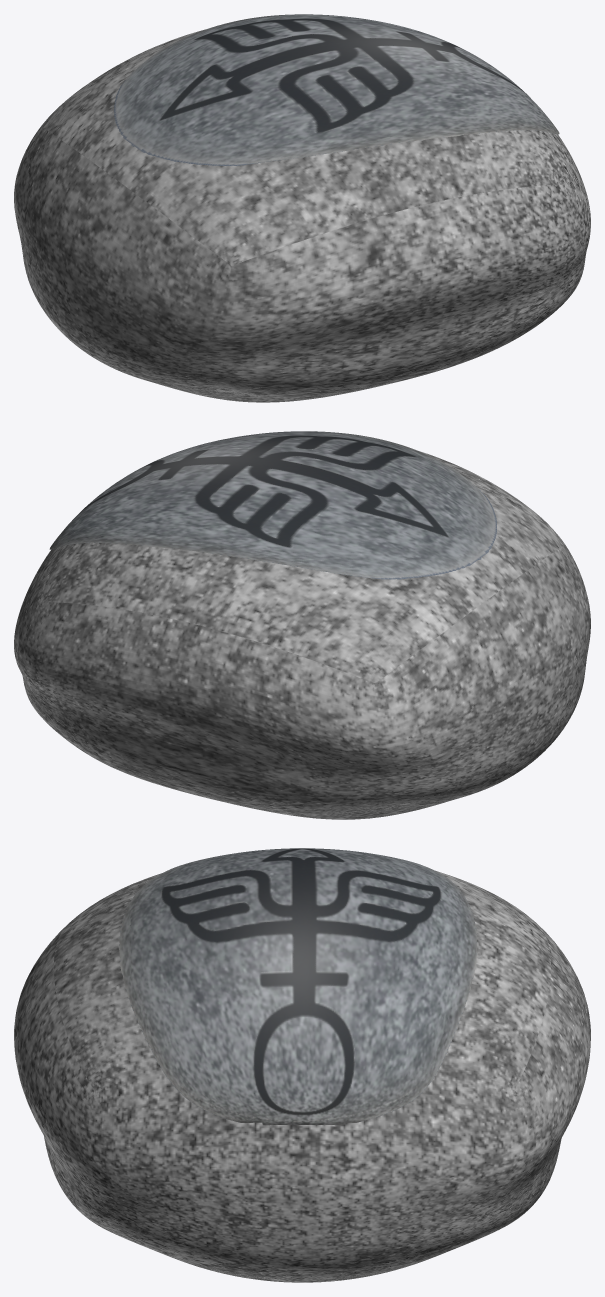
The model's file is AbsorbedTablet.fbx.
3 renders of one model, top to bottom at view 1: azimuth 30°, elevation 25°; view 2: azimuth 150°, elevation 25°; view 3: azimuth 270°, elevation 25°, orthographic. The views are drawn at different scales.
Visible parts, largest first — view 1: Cube, war; view 2: Cube, war; view 3: Cube, war.
Part boxes in pixels (x1,y1,x2,y2): Cube: (14, 29, 590, 402); war: (114, 14, 559, 165); Cube: (14, 451, 590, 819); war: (49, 431, 496, 579); Cube: (14, 870, 590, 1282); war: (119, 848, 477, 1125).
Bounding box in the file's own units: 251 × 156 × 238.
